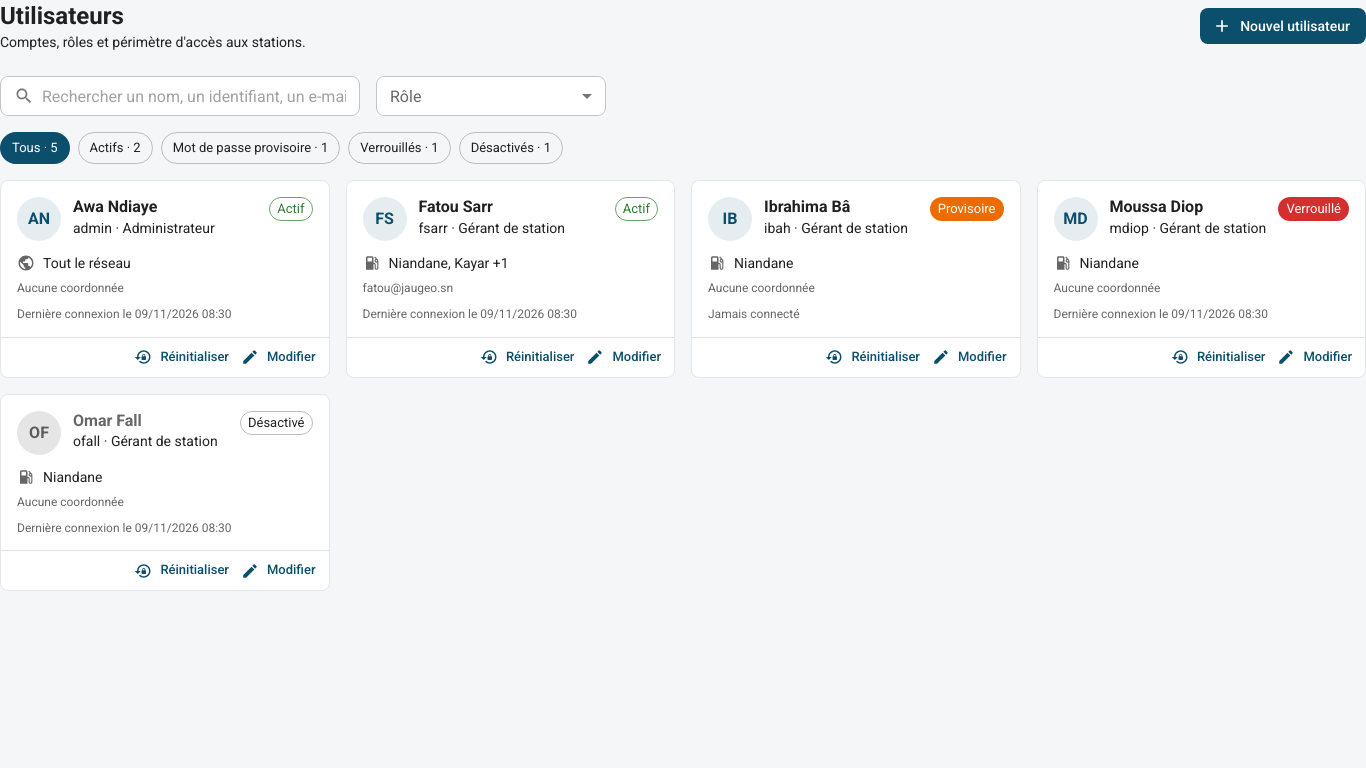
Test: utilisateurs › réinitialise un mot de passe après confirmation et l’affiche une seule fois
Step 1. Click the button with aria-label "Réinitialiser le mot de passe de mdiop" → (1219, 357), box [1168, 342, 1270, 373]
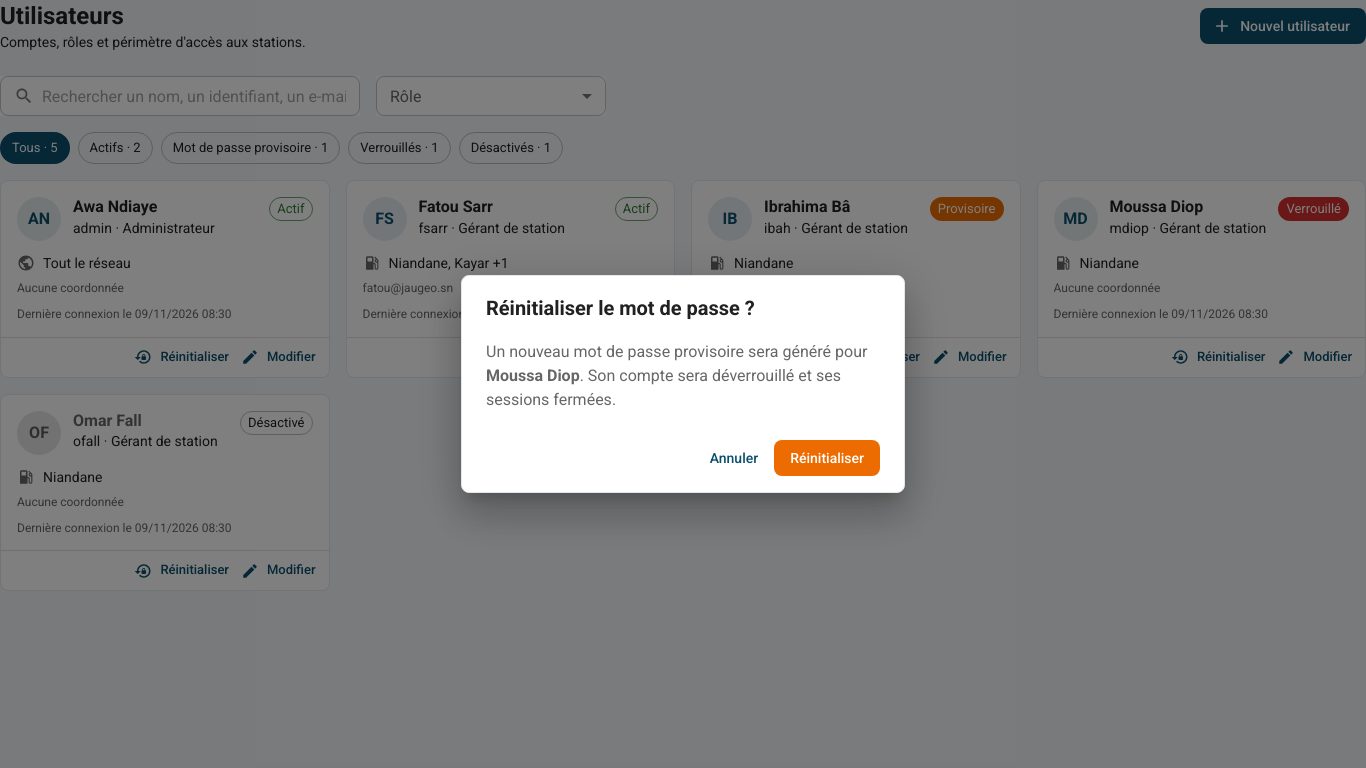
Expected: the dialog "Réinitialiser le mot de passe ?" shows "Moussa Diop", [486, 366, 580, 385]
Step 2. Click the button "Réinitialiser" → (827, 458), box [774, 440, 880, 476]
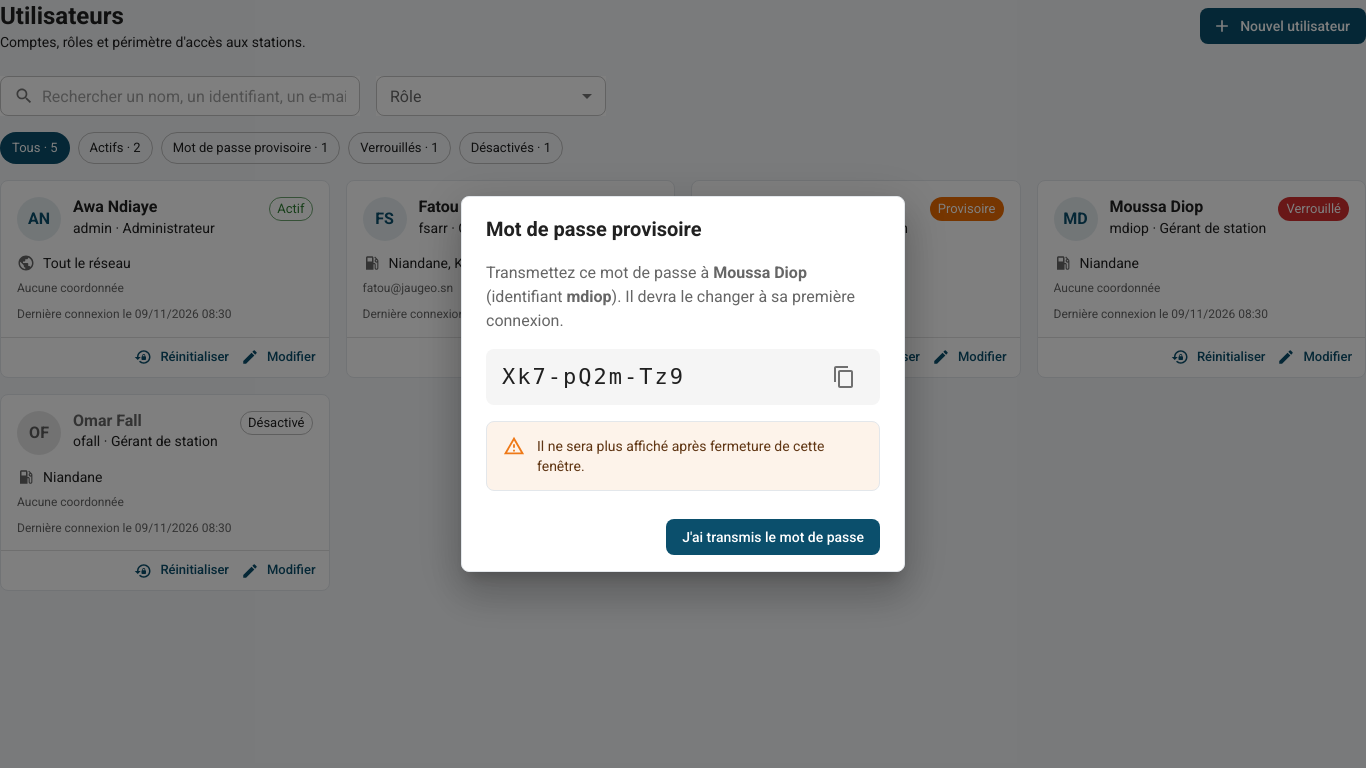
Expected: the text with test id "mdp-provisoire" reads "Xk7-pQ2m-Tz9", [502, 364, 685, 389]
